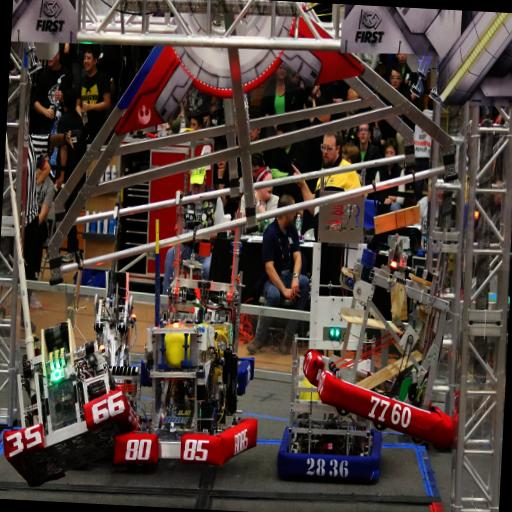robot: (120, 191, 269, 479), (2, 209, 152, 465), (300, 218, 466, 447), (276, 333, 388, 486)
